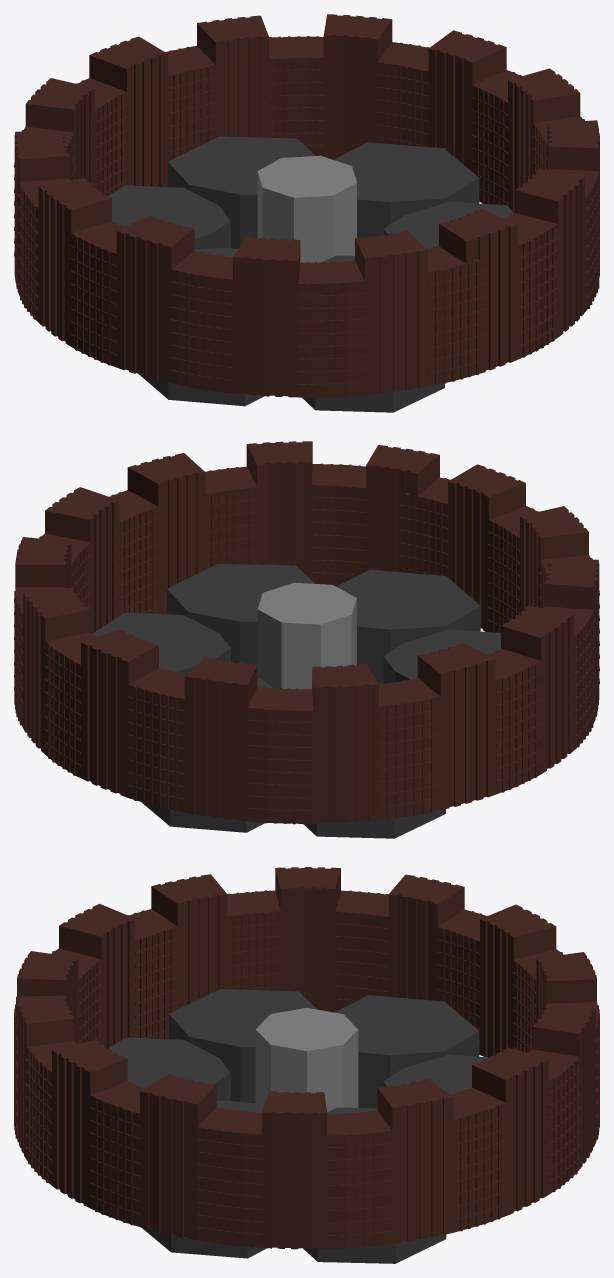
Rendered from cityPrefab.fbx.
3 views of the same model, one above another, from view 1: azimuth 30°, elevation 25°; view 2: azimuth 150°, elevation 25°; view 3: azimuth 270°, elevation 25° (orthographic).
Visible parts, largest first — view 1: walls, mainFoundation, buildingsFoundation_5, buildingsFoundation_4, buildingsFoundation_3, buildingsFoundation_6, buildingsFoundation_1, buildingsFoundation_2; view 2: walls, mainFoundation, buildingsFoundation_1, buildingsFoundation_6, buildingsFoundation_5, buildingsFoundation_2, buildingsFoundation_3, buildingsFoundation_4; view 3: walls, mainFoundation, buildingsFoundation_3, buildingsFoundation_2, buildingsFoundation_1, buildingsFoundation_5, buildingsFoundation_4, buildingsFoundation_6.
Boxes of the visible parts, <box> form: walls: <box>14,14,599,398</box>; mainFoundation: <box>257,155,356,262</box>; buildingsFoundation_5: <box>334,142,479,237</box>; buildingsFoundation_4: <box>168,136,315,248</box>; buildingsFoundation_3: <box>108,185,230,249</box>; buildingsFoundation_6: <box>384,201,513,248</box>; buildingsFoundation_1: <box>302,255,444,412</box>; buildingsFoundation_2: <box>138,247,263,406</box>; walls: <box>14,441,599,824</box>; mainFoundation: <box>257,582,356,689</box>; buildingsFoundation_1: <box>336,569,480,683</box>; buildingsFoundation_6: <box>167,564,315,664</box>; buildingsFoundation_5: <box>92,612,230,674</box>; buildingsFoundation_2: <box>383,629,500,683</box>; buildingsFoundation_3: <box>304,683,445,838</box>; buildingsFoundation_4: <box>141,677,272,832</box>; walls: <box>14,867,599,1249</box>; mainFoundation: <box>255,1008,358,1111</box>; buildingsFoundation_3: <box>335,995,479,1108</box>; buildingsFoundation_2: <box>169,989,317,1103</box>; buildingsFoundation_1: <box>108,1037,230,1100</box>; buildingsFoundation_5: <box>303,1107,446,1263</box>; buildingsFoundation_4: <box>383,1054,488,1094</box>; buildingsFoundation_6: <box>142,1100,266,1258</box>.
Size of the model in its own units: 13.25 by 4.67 by 13.31.
